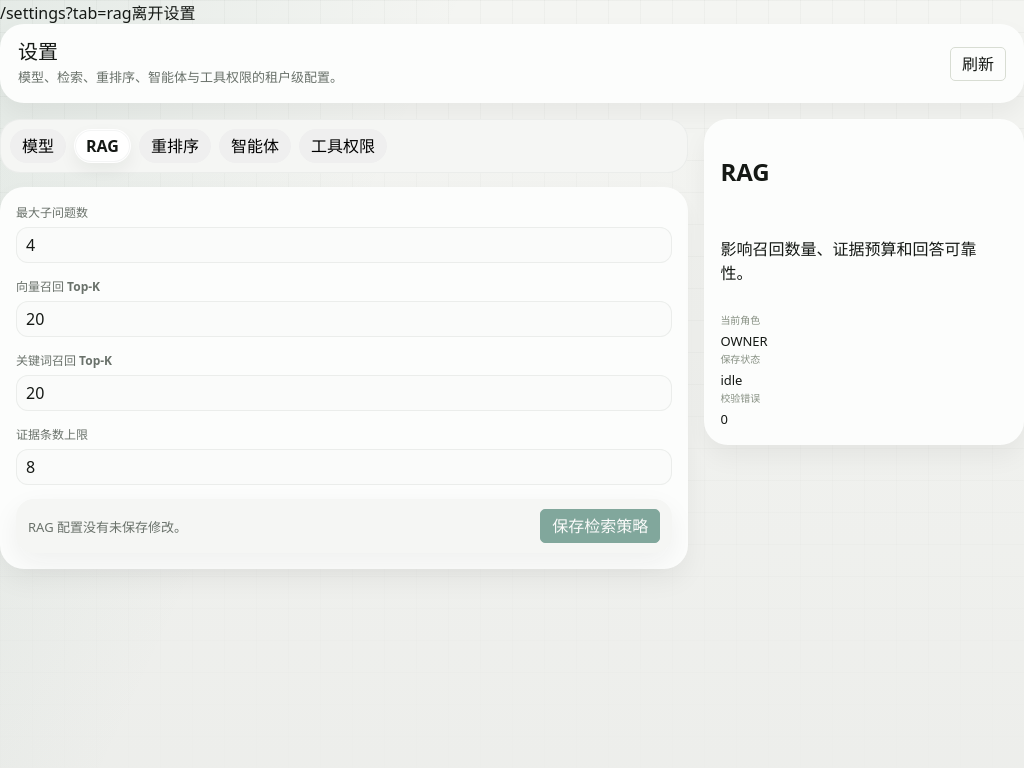
it: SettingsPage URL tabs and dirty state › shows dirty save state after a field changes and prevents accidental route leave
The width and height of the screenshot is (1024, 768).
Replace the text in the number field labelled "最大子问题数" with "6": (344, 245) x1=16 y1=227 x2=672 y2=263
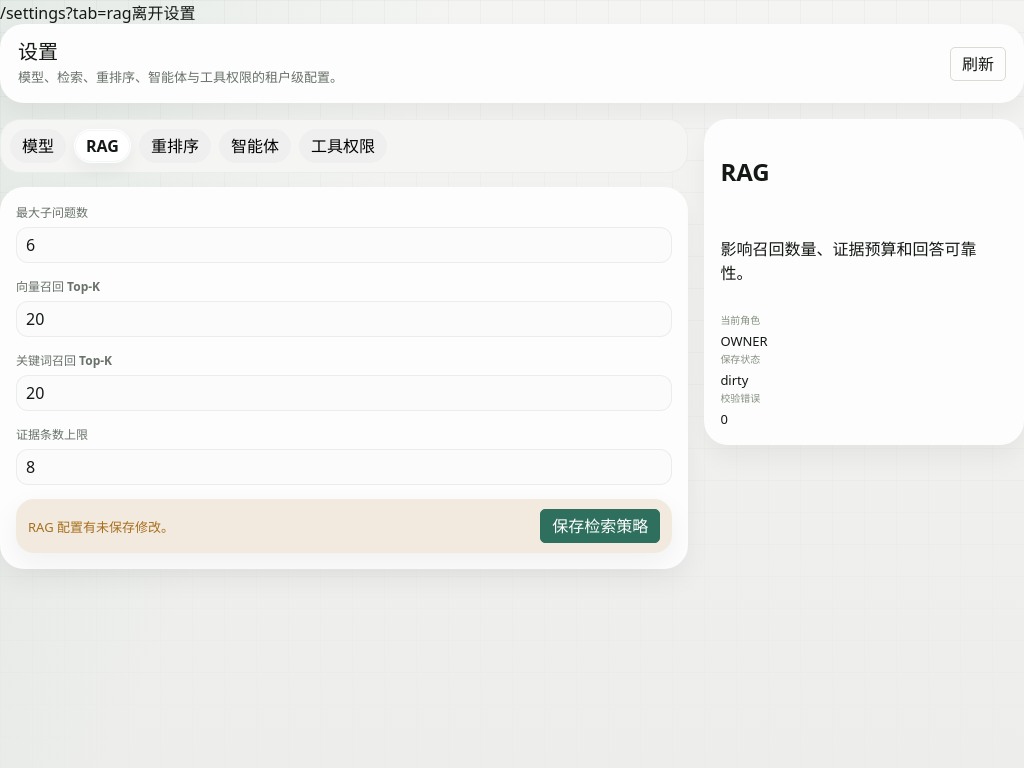
Check: the text "RAG 配置有未保存修改。" is shown, box x1=28 y1=517 x2=174 y2=536
Check: the button "保存检索策略" is enabled, box x1=540 y1=509 x2=660 y2=543
Check: the text "dirty" is shown, box x1=720 y1=371 x2=748 y2=389
Click the link "离开设置": click(164, 13) x1=132 y1=2 x2=196 y2=24
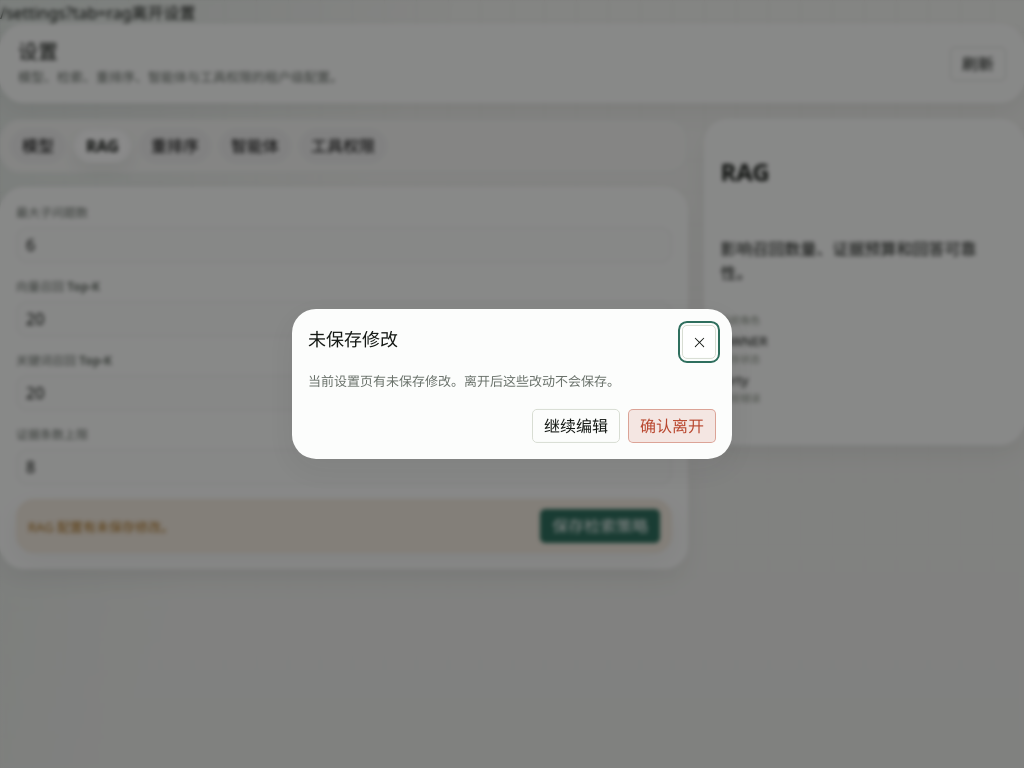
Check: the text with test id "location" reads "/settings?tab=rag", box x1=0 y1=2 x2=132 y2=24
Check: the dialog "未保存修改" is shown, box x1=292 y1=309 x2=732 y2=459
